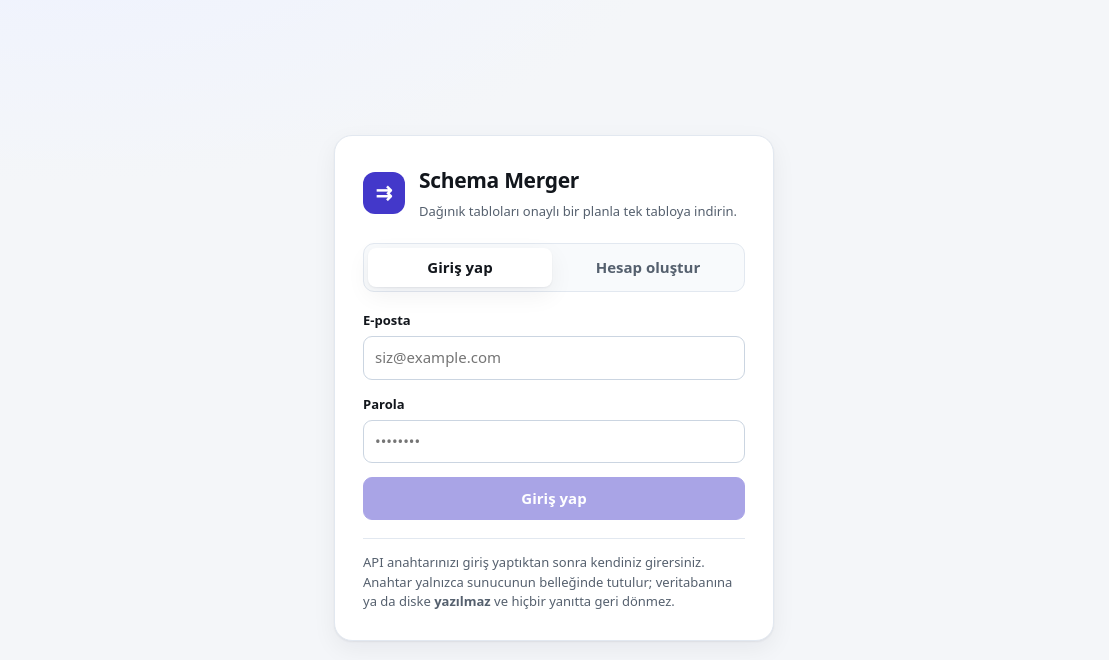
Test: accounts › registers a new account through the same form
Click the tab "Hesap oluştur" at (648, 268), box [556,248,740,287]
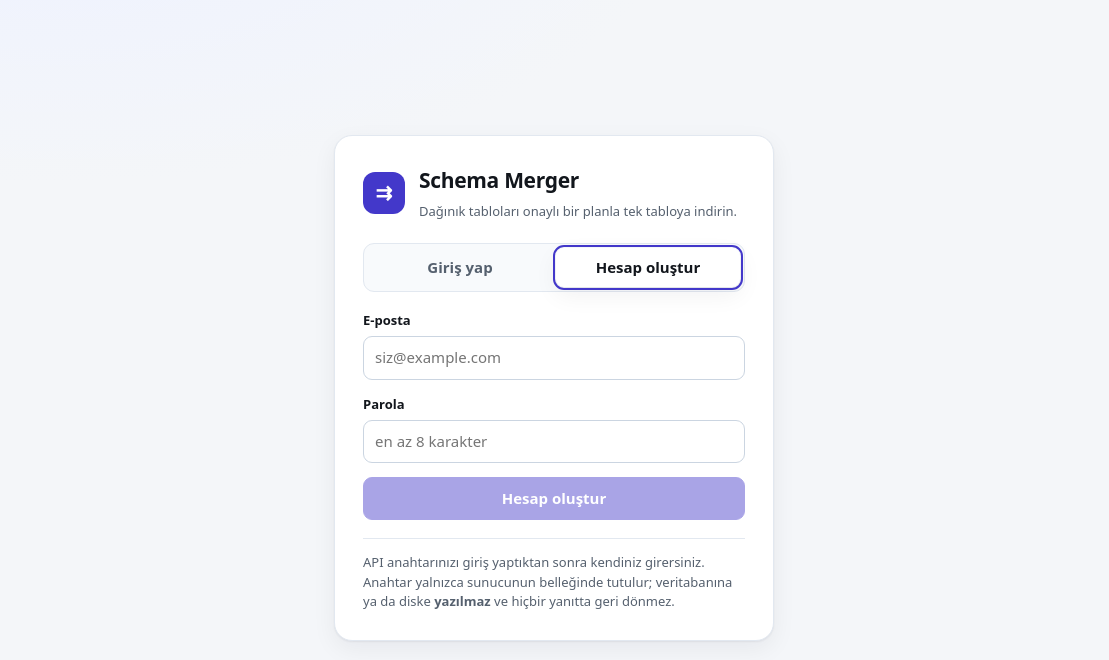
Type "yeni@example.com" into the field labelled "E-posta" at (554, 358), box [363,336,745,380]
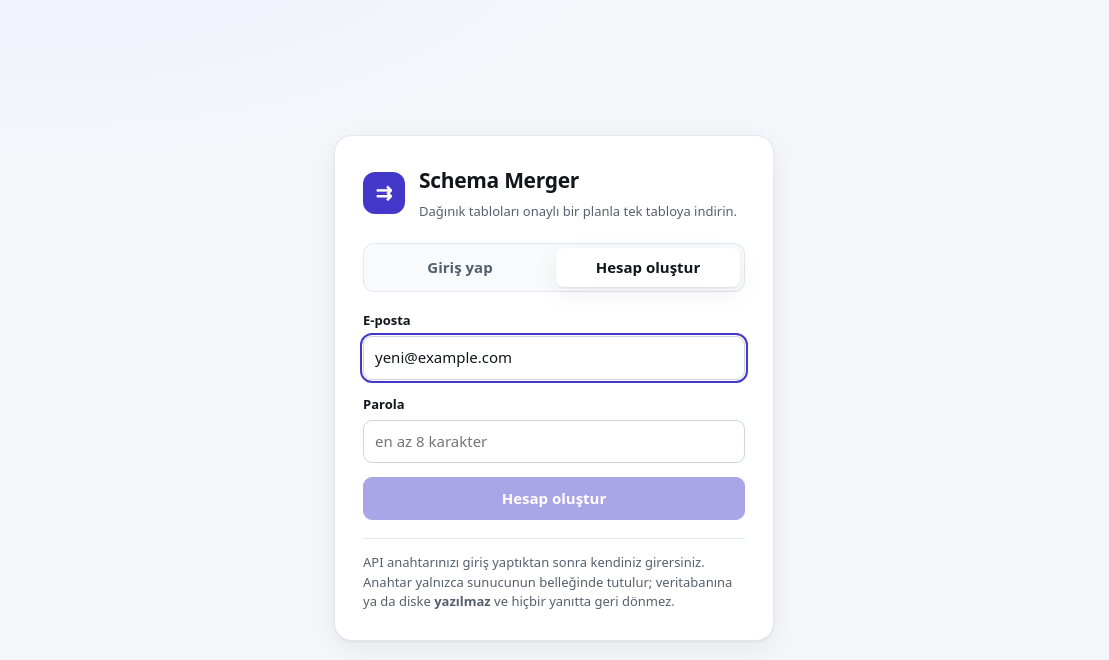
Type "parola1234" into the password field labelled "Parola" at (554, 441), box [363,420,745,463]
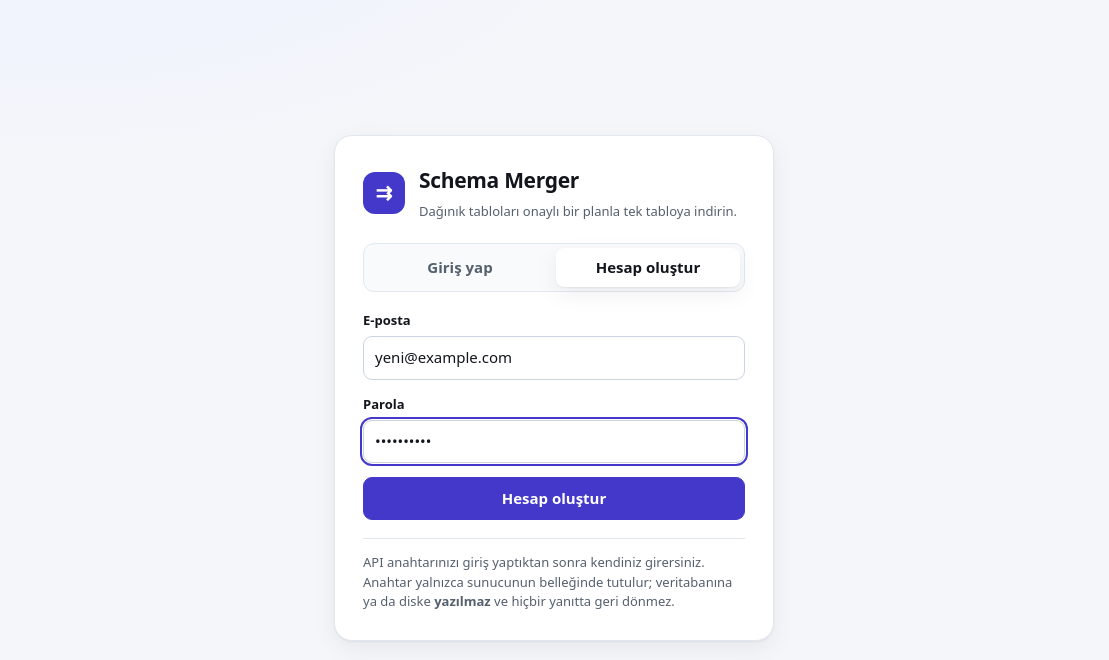
Click the button "Hesap oluştur" at (554, 499), box [363,477,745,520]
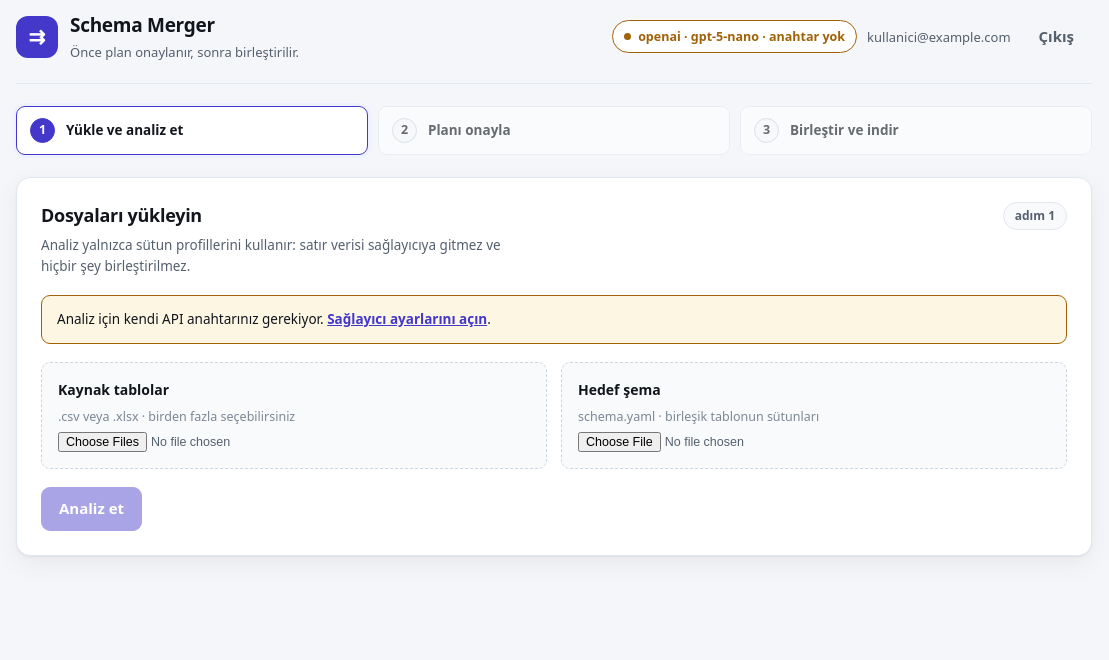
Check: the heading "Dosyaları yükleyin" is shown, box [41,203,202,227]
